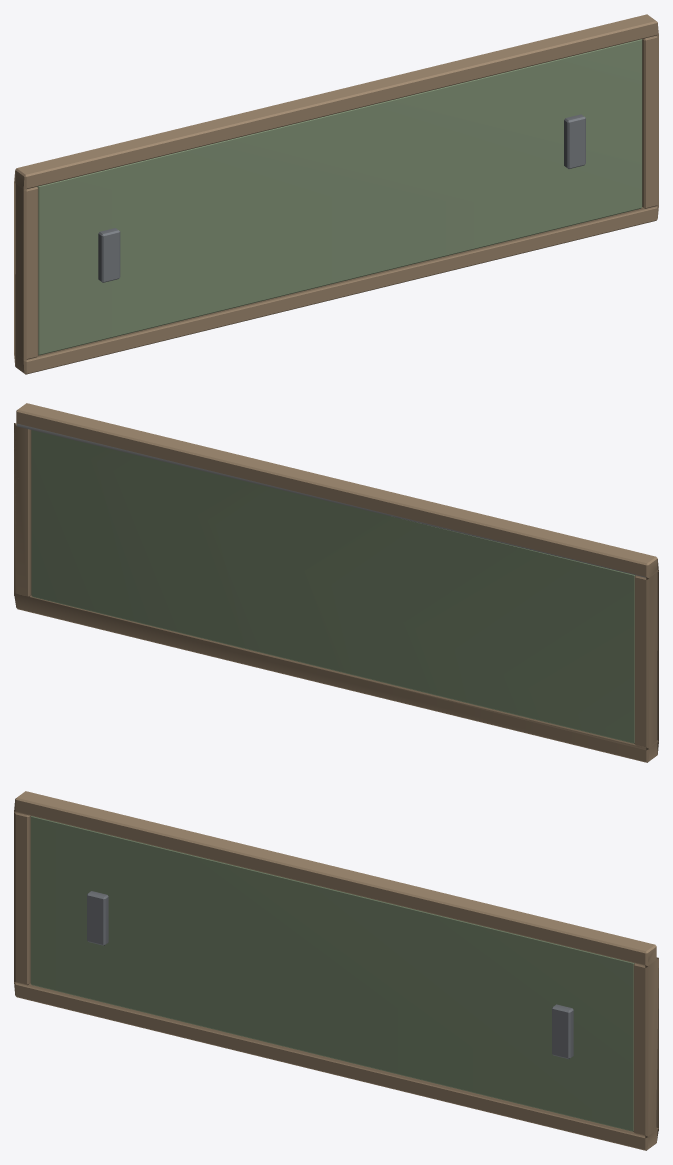
The model's file is sign_wall.glb.
3 views of the same model, one above another, from view 1: azimuth 30°, elevation 25°; view 2: azimuth 150°, elevation 25°; view 3: azimuth 330°, elevation 25° (orthographic).
Bounding box in the file's own units: 2.73 × 0.82 × 0.1.
